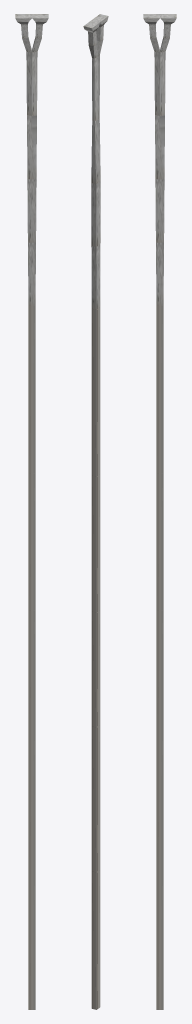
Rendered from Pillar.fbx.
3 renders of one model, left to right at view 1: azimuth 90°, elevation 25°; view 2: azimuth 150°, elevation 25°; view 3: azimuth 270°, elevation 25°, orthographic.
Parts seen in each view (by area): view 1: newassets_Pillar; view 2: newassets_Pillar; view 3: newassets_Pillar.
Boxes of the visible parts, left/top/right/bottom form: newassets_Pillar: left=15, top=14, right=48, bottom=1009; newassets_Pillar: left=83, top=14, right=108, bottom=1009; newassets_Pillar: left=143, top=14, right=176, bottom=1009.
Size of the model in its own units: 1402 by 153800 by 4710.
1 material, 1 textured.
